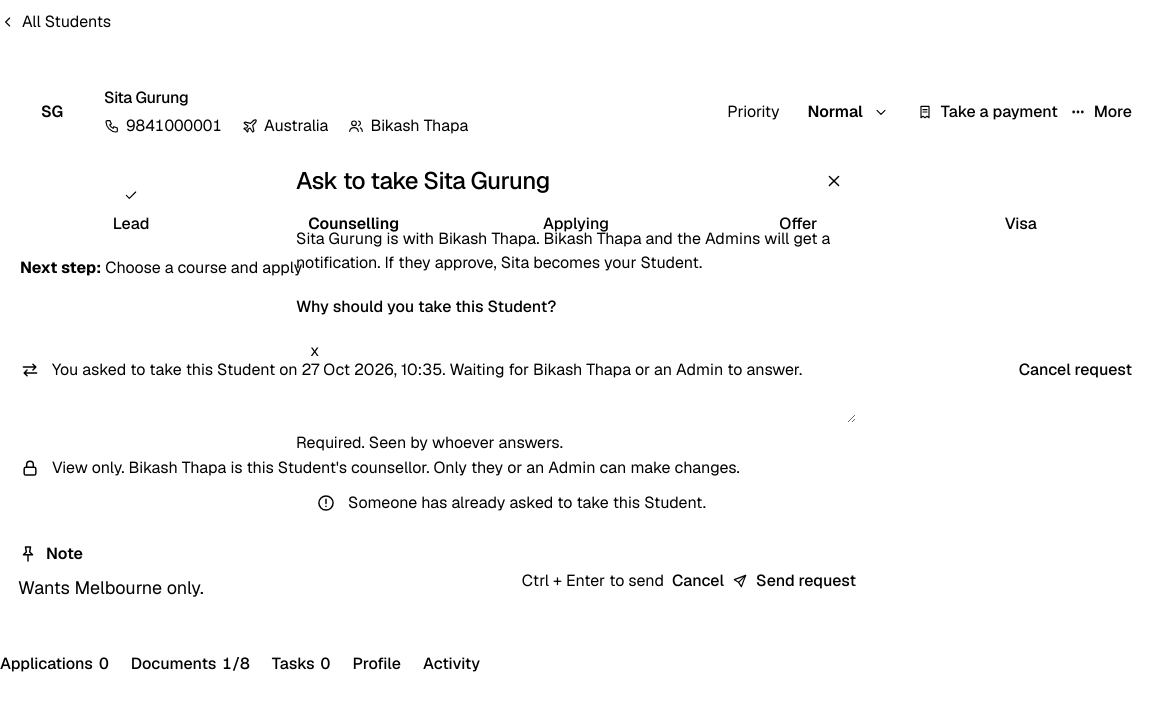
Scenario: Asking to take a Student › lets whoever asked cancel from the banner
Click the button "Cancel request": point(1075, 370) [1019,348,1132,392]
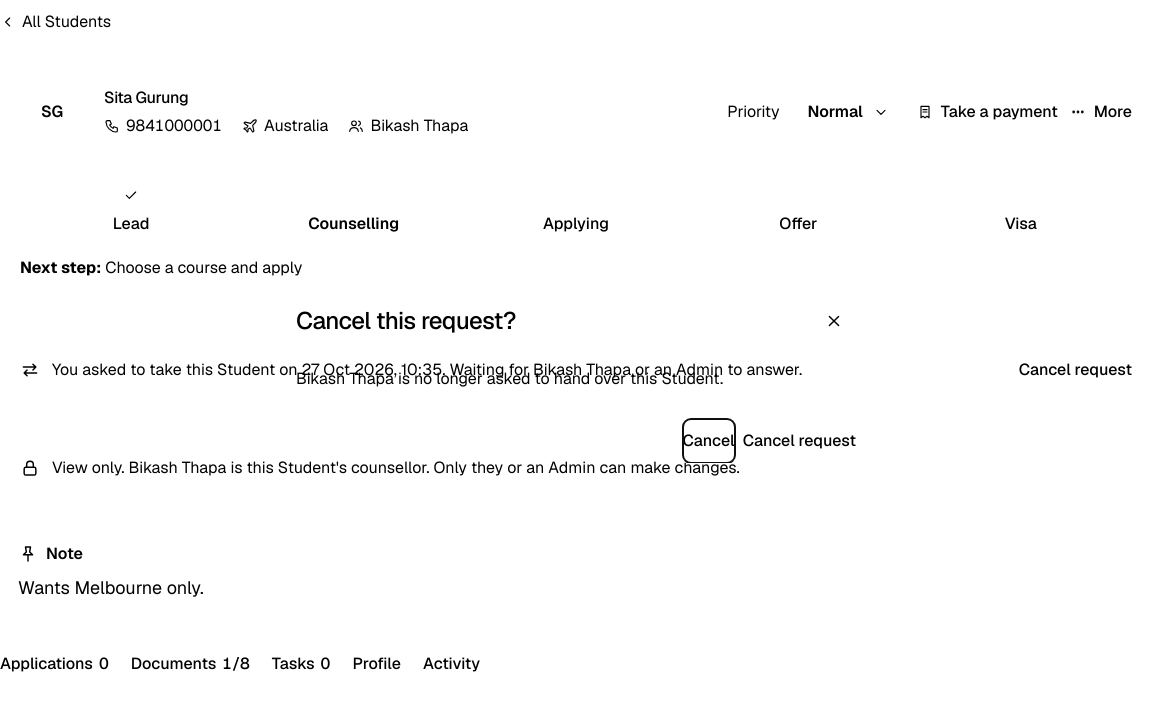
Now the dialog "Cancel this request?" shows "Bikash Thapa is no longer asked to hand over this Student.", box [296,368,723,388]
Click the button "Cancel request": point(799, 440) [743,418,856,462]
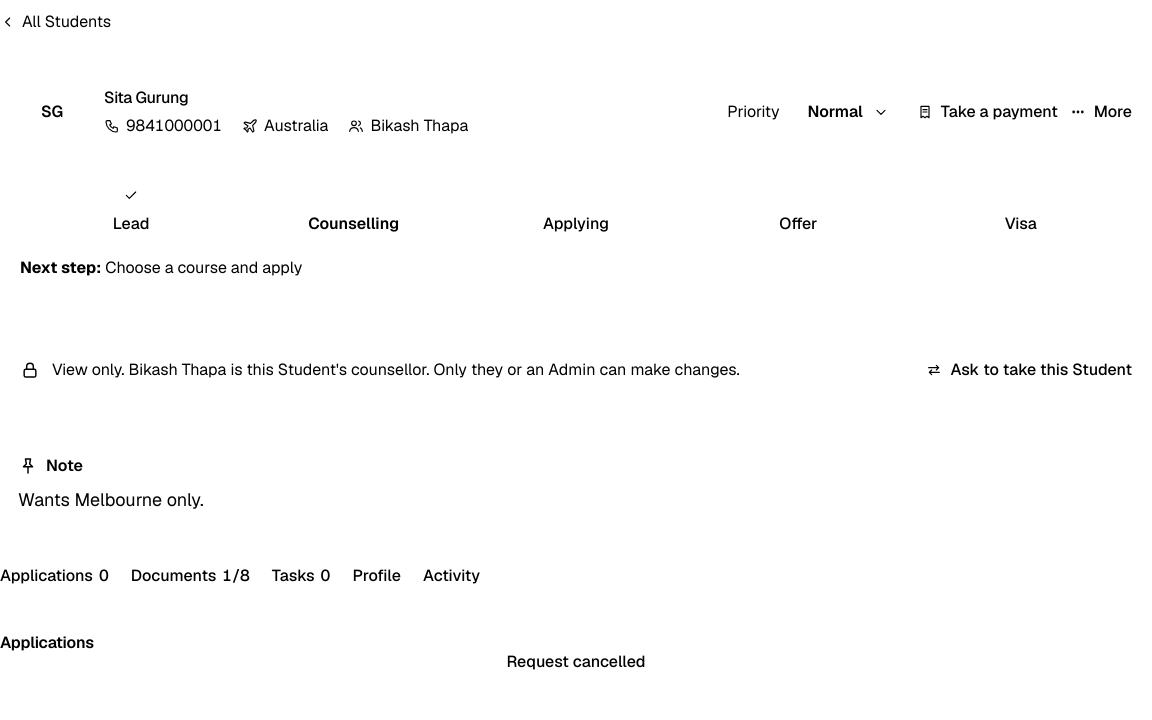
Now the text "Request cancelled" is shown, box [506,651,646,672]
Now the button "Ask to take this Student" is shown, box [926,348,1132,392]
